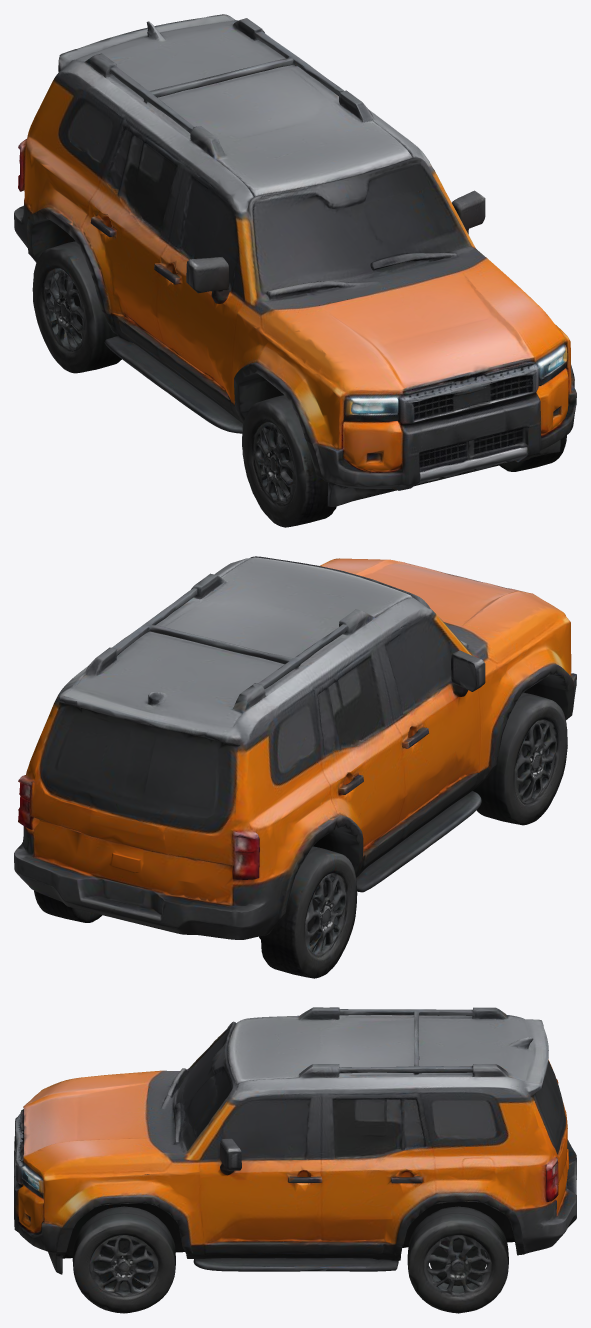
Rendered from carro_suv.glb.
3 renders of one model, top to bottom at view 1: azimuth 30°, elevation 25°; view 2: azimuth 150°, elevation 25°; view 3: azimuth 270°, elevation 25°, orthographic. The views are drawn at different scales.
Parts seen in each view (by area): view 1: tripo_node_4720decf-6d4a-4819-a1ac-fb288a771d52; view 2: tripo_node_4720decf-6d4a-4819-a1ac-fb288a771d52; view 3: tripo_node_4720decf-6d4a-4819-a1ac-fb288a771d52.
Part boxes in pixels (x1,y1,x2,y2): tripo_node_4720decf-6d4a-4819-a1ac-fb288a771d52: (14, 14, 576, 527); tripo_node_4720decf-6d4a-4819-a1ac-fb288a771d52: (14, 556, 576, 978); tripo_node_4720decf-6d4a-4819-a1ac-fb288a771d52: (14, 1007, 576, 1313).
Size of the model in its own units: 2.2 by 2.04 by 4.6.
1 material, 1 textured.
